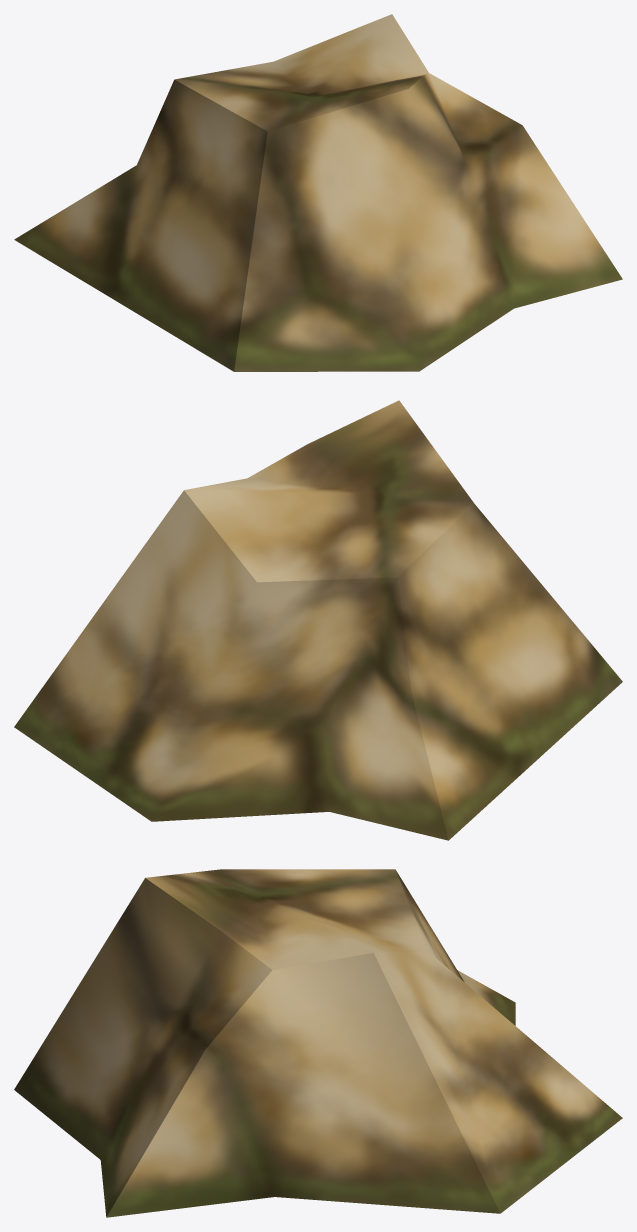
The model's file is 001IwaS02.fbx.
3 renders of one model, top to bottom at view 1: azimuth 30°, elevation 25°; view 2: azimuth 150°, elevation 25°; view 3: azimuth 270°, elevation 25°, orthographic. The views are drawn at different scales.
Parts seen in each view (by area): view 1: pCube3; view 2: pCube3; view 3: pCube3.
Part boxes in pixels (x1,y1,x2,y2): pCube3: (14,14,622,371); pCube3: (14,400,622,840); pCube3: (14,869,622,1217).
Bounding box in the file's own units: 2.45 × 1.27 × 2.93.
1 material, 1 textured.
